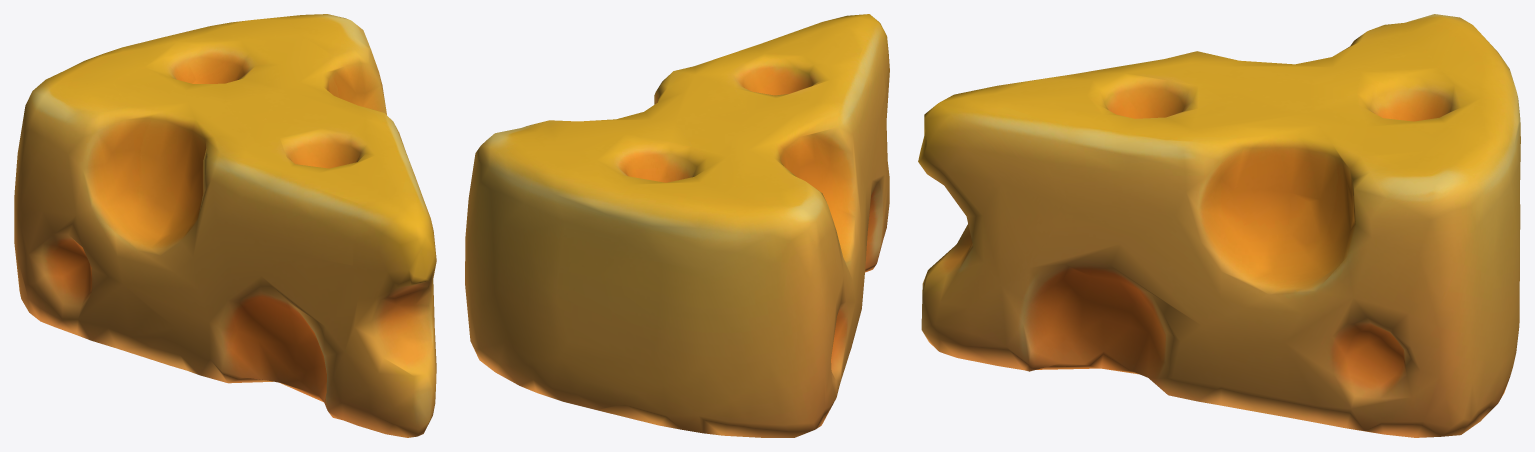
Rendered from Cheese.fbx.
3 views of the same model, side by side, from view 1: azimuth 30°, elevation 25°; view 2: azimuth 150°, elevation 25°; view 3: azimuth 270°, elevation 25° (orthographic). The views are drawn at different scales.
Parts seen in each view (by area): view 1: tripo_node_ac85ccf1; view 2: tripo_node_ac85ccf1; view 3: tripo_node_ac85ccf1.
Part boxes in pixels (left/top/right/bottom): tripo_node_ac85ccf1: left=14, top=14, right=436, bottom=437; tripo_node_ac85ccf1: left=465, top=14, right=889, bottom=437; tripo_node_ac85ccf1: left=918, top=14, right=1520, bottom=437.
Bounding box in the file's own units: 0.7741 × 0.4618 × 1.
Materials: 1 (1 with a texture image).
